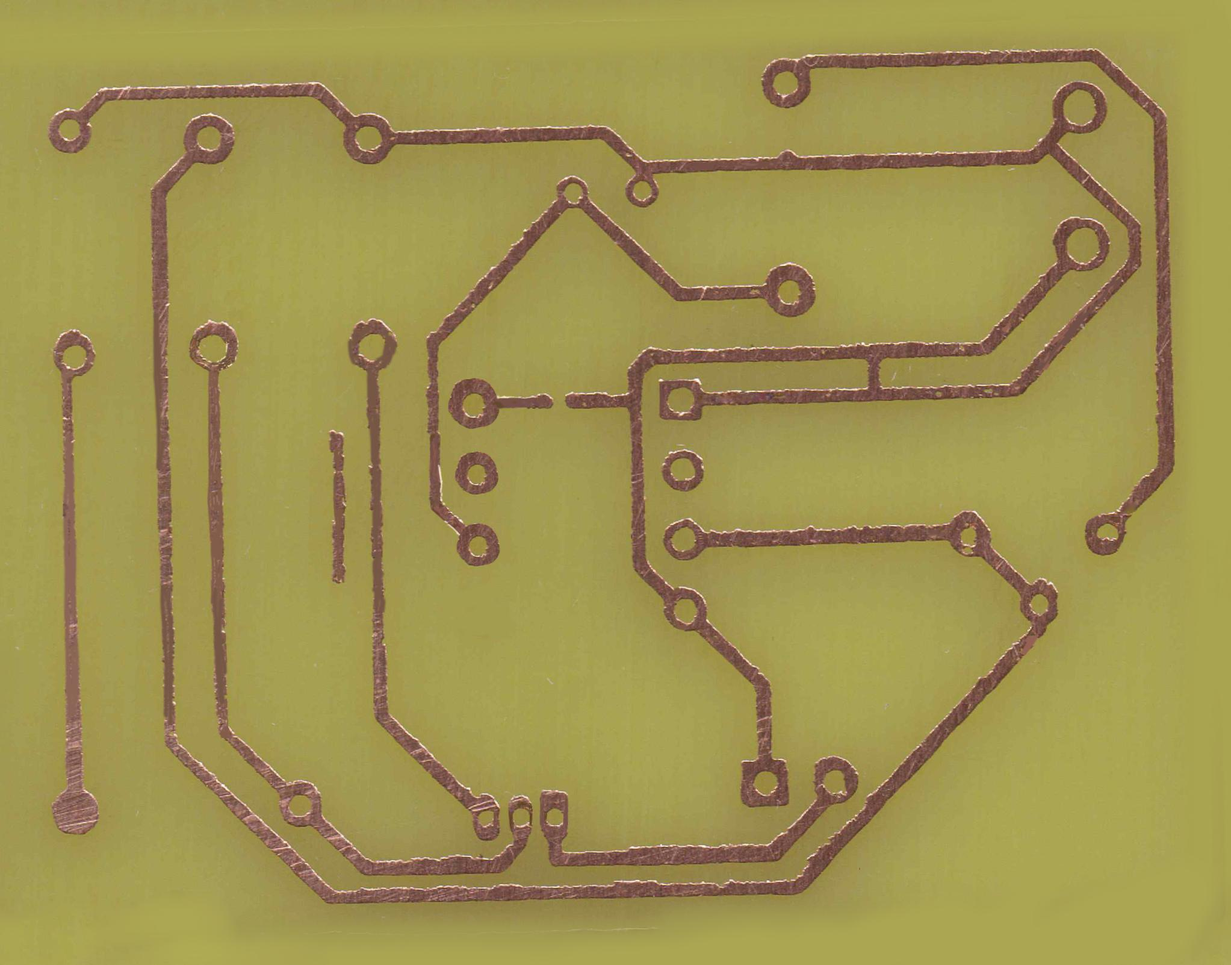missing_hole: (945, 506, 994, 559)
mouse_bite: (708, 876, 736, 900)
open_circuit: (543, 386, 575, 412)
short: (861, 337, 888, 406)
spur: (772, 146, 802, 175)
spurious_copper: (325, 422, 354, 588)
